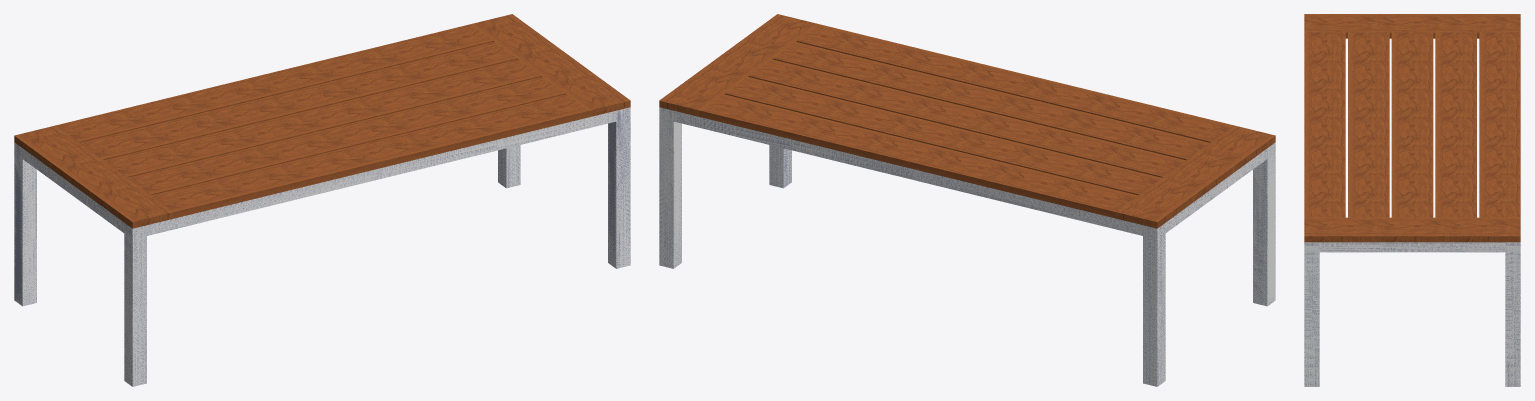
Rendered from Ikea_byholma_36x51x17.fbx.
3 renders of one model, left to right at view 1: azimuth 30°, elevation 25°; view 2: azimuth 150°, elevation 25°; view 3: azimuth 270°, elevation 25°, orthographic. The views are drawn at different scales.
Parts seen in each view (by area): view 1: HPlank1, HPlank3, HPlank5, HPlank4, HPlank2, VPlank1, DragerLang1, VPlank2, HPoot3, HPoot4, HPoot2, DragerKort2 (+1 smaller); view 2: HPlank5, HPlank1, HPlank3, HPlank2, HPlank4, VPlank1, DragerLang2, VPlank2, HPoot2, HPoot1, HPoot3, DragerKort2 (+1 smaller); view 3: HPlank3, HPlank1, HPlank2, HPlank4, HPlank5, VPlank2, VPlank1, HPoot1, HPoot4, DragerKort1.
Boxes of the visible parts, x1=… form: HPlank1: x1=152, y1=94, x2=588, y2=218; HPlank3: x1=104, y1=59, x2=540, y2=177; HPlank5: x1=56, y1=24, x2=493, y2=142; HPlank4: x1=128, y1=77, x2=564, y2=195; HPlank2: x1=80, y1=42, x2=516, y2=160; VPlank1: x1=14, y1=125, x2=174, y2=228; DragerLang1: x1=147, y1=111, x2=616, y2=235; VPlank2: x1=470, y1=14, x2=630, y2=117; HPoot3: x1=124, y1=223, x2=146, y2=386; HPoot4: x1=608, y1=107, x2=630, y2=268; HPoot2: x1=14, y1=142, x2=36, y2=306; DragerKort2: x1=22, y1=148, x2=124, y2=232; HPlank5: x1=701, y1=94, x2=1137, y2=218; HPlank1: x1=796, y1=24, x2=1233, y2=142; HPlank3: x1=749, y1=59, x2=1185, y2=177; HPlank2: x1=725, y1=77, x2=1161, y2=195; HPlank4: x1=773, y1=42, x2=1209, y2=160; VPlank1: x1=1115, y1=125, x2=1275, y2=228; DragerLang2: x1=673, y1=111, x2=1142, y2=235; VPlank2: x1=659, y1=14, x2=819, y2=117; HPoot2: x1=1143, y1=223, x2=1165, y2=386; HPoot1: x1=659, y1=107, x2=681, y2=268; HPoot3: x1=1253, y1=142, x2=1275, y2=306; DragerKort2: x1=1165, y1=148, x2=1267, y2=232; HPlank3: x1=1391, y1=32, x2=1433, y2=217; HPlank1: x1=1304, y1=32, x2=1345, y2=217; HPlank2: x1=1435, y1=32, x2=1476, y2=217; HPlank4: x1=1348, y1=32, x2=1389, y2=217; HPlank5: x1=1479, y1=32, x2=1520, y2=217; VPlank2: x1=1304, y1=217, x2=1520, y2=242; VPlank1: x1=1304, y1=14, x2=1520, y2=38; HPoot1: x1=1505, y1=242, x2=1520, y2=386; HPoot4: x1=1304, y1=242, x2=1319, y2=386; DragerKort1: x1=1319, y1=242, x2=1505, y2=252.
Size of the model in its own units: 241 by 76 by 99.
